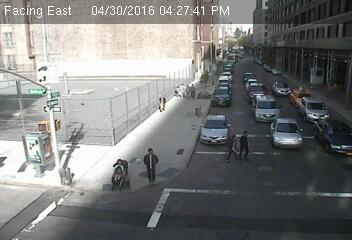neg: (11, 124, 43, 167), (312, 80, 343, 122), (19, 191, 46, 227), (313, 141, 334, 169), (29, 51, 49, 77), (63, 122, 82, 147), (114, 14, 132, 39), (68, 7, 86, 32), (294, 123, 312, 147), (123, 107, 140, 130), (156, 115, 169, 132), (269, 63, 282, 80), (308, 74, 319, 89), (155, 8, 166, 23), (254, 49, 265, 63), (173, 137, 182, 149), (288, 84, 297, 95), (295, 72, 303, 83), (175, 50, 183, 61), (205, 36, 213, 46), (223, 58, 230, 68), (288, 44, 295, 53)
pos: (136, 146, 167, 187), (218, 129, 248, 168), (233, 125, 260, 162), (107, 154, 132, 187), (186, 81, 202, 102), (175, 79, 190, 99), (182, 81, 196, 100), (171, 81, 183, 98)
